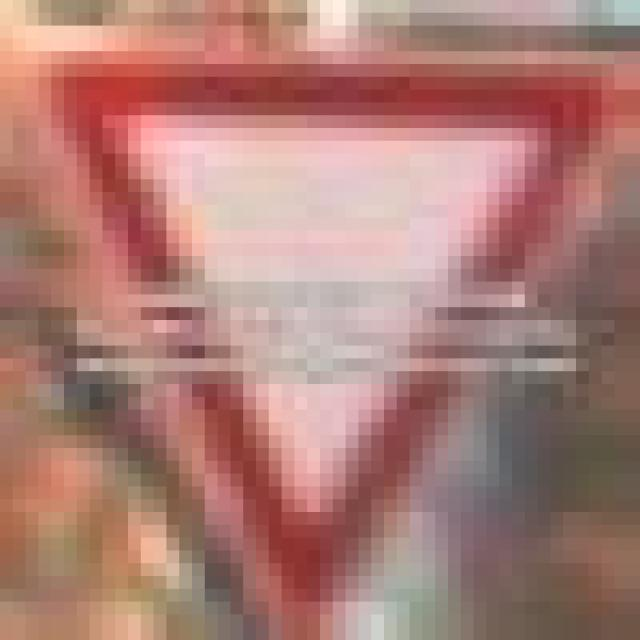gap_in_median: (26, 38, 602, 589)
